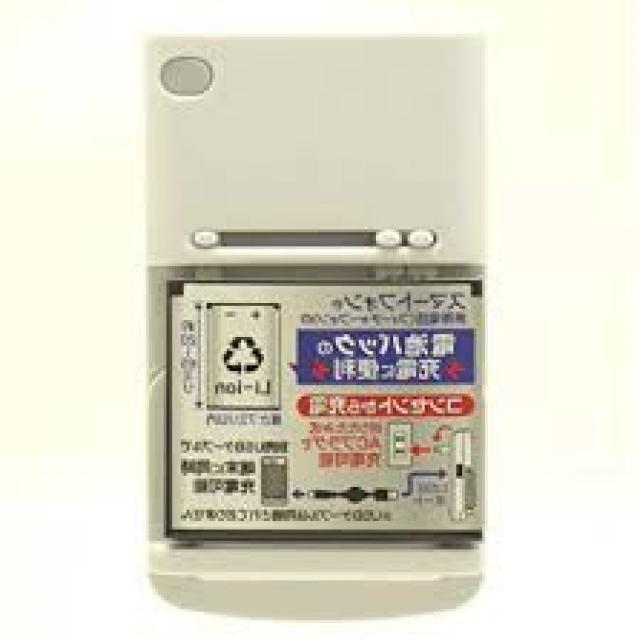battery: (163, 282, 487, 546)
